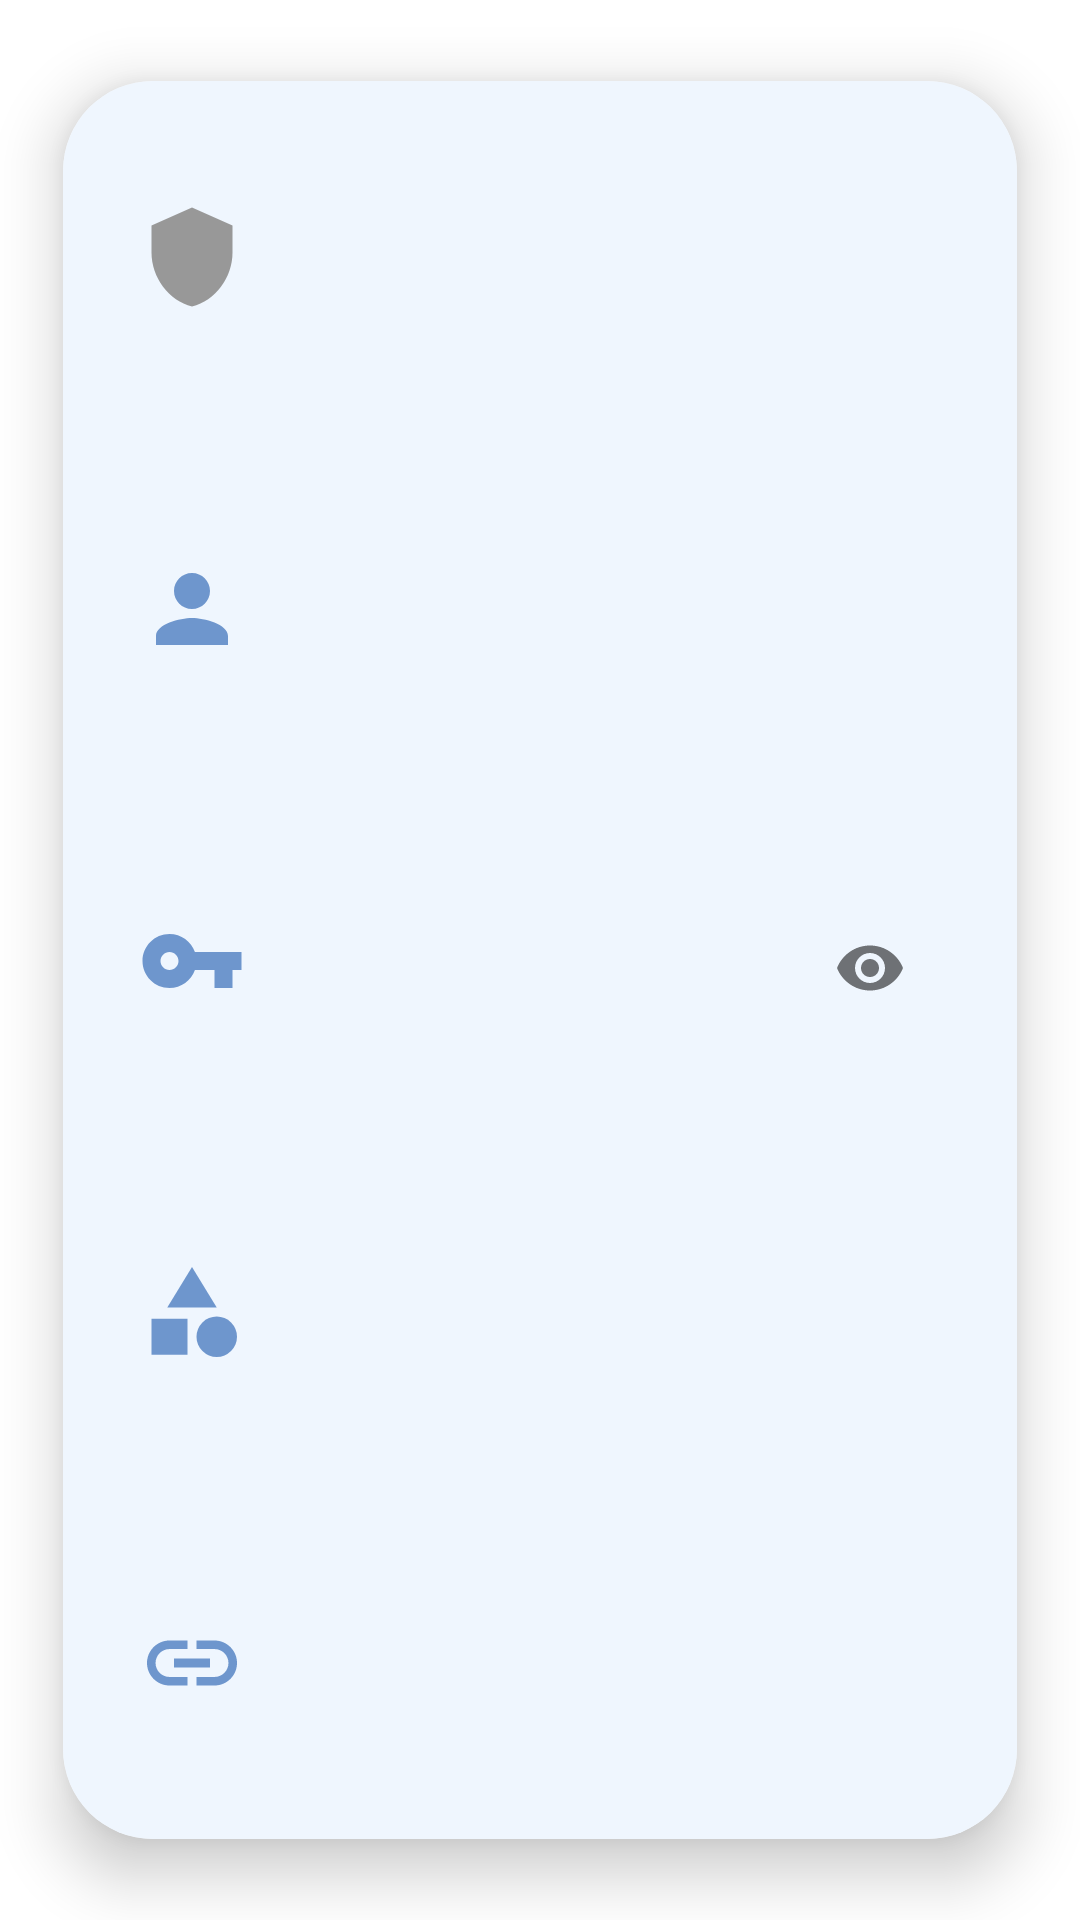

Screen size 1080×1920. Icon name, then its box in pixels as (x1, y1, x2, y2):
account: (156, 573, 228, 645)
category: (151, 1267, 237, 1357)
pass key: (142, 934, 242, 988)
url: (147, 1640, 237, 1686)
